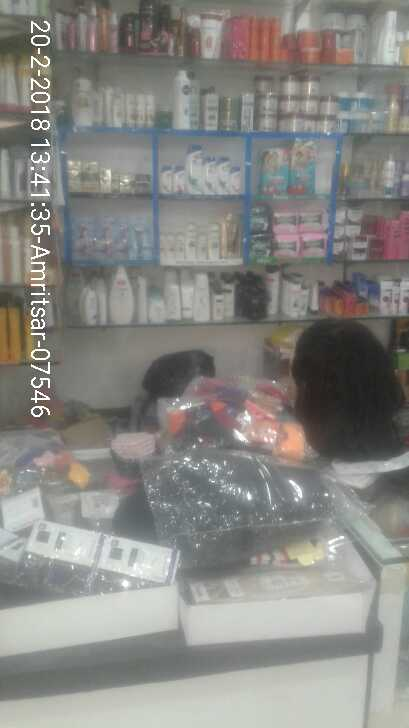venus: (102, 216, 129, 259), (76, 216, 102, 260), (129, 216, 152, 259)
